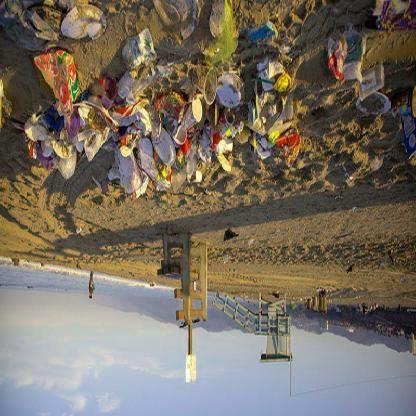Trash: (35, 48, 81, 117), (330, 27, 367, 85), (182, 61, 216, 101), (178, 97, 206, 136), (116, 137, 135, 190)
